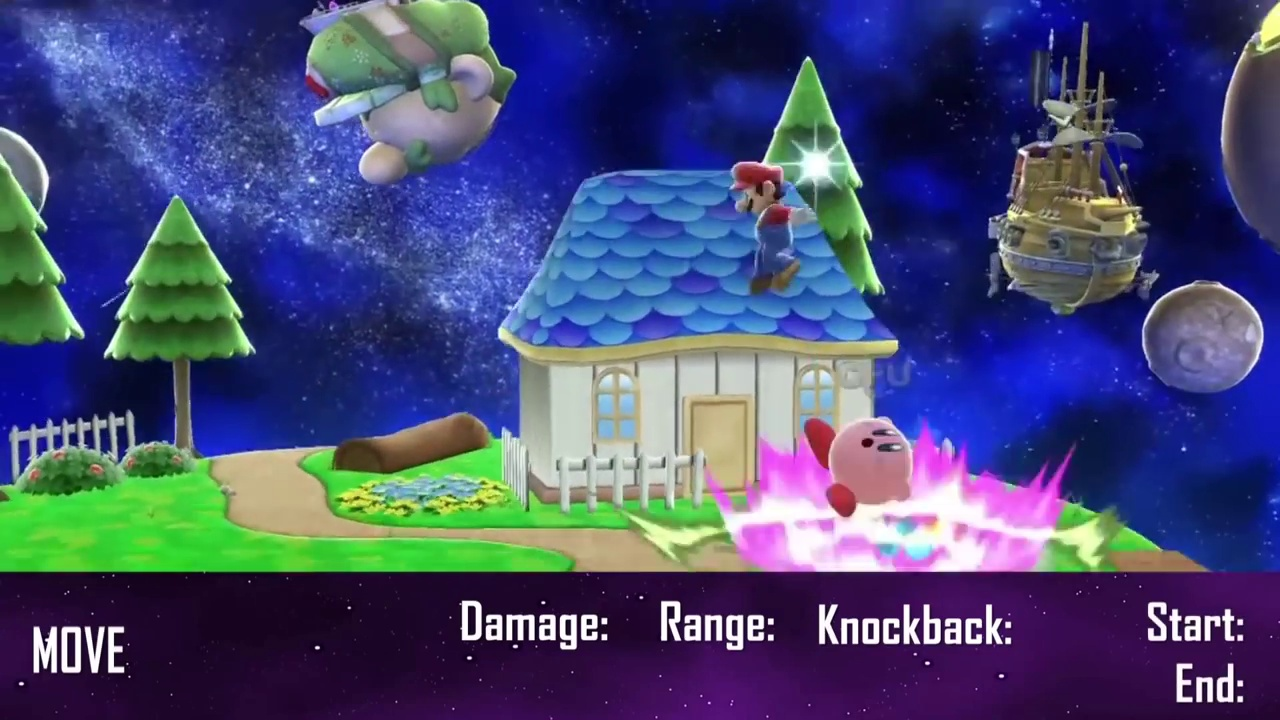Mario: (727, 162, 813, 297)
